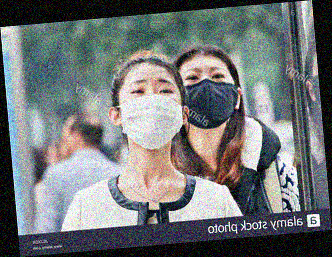with_mask: (118, 76, 184, 152), (179, 64, 238, 131)
